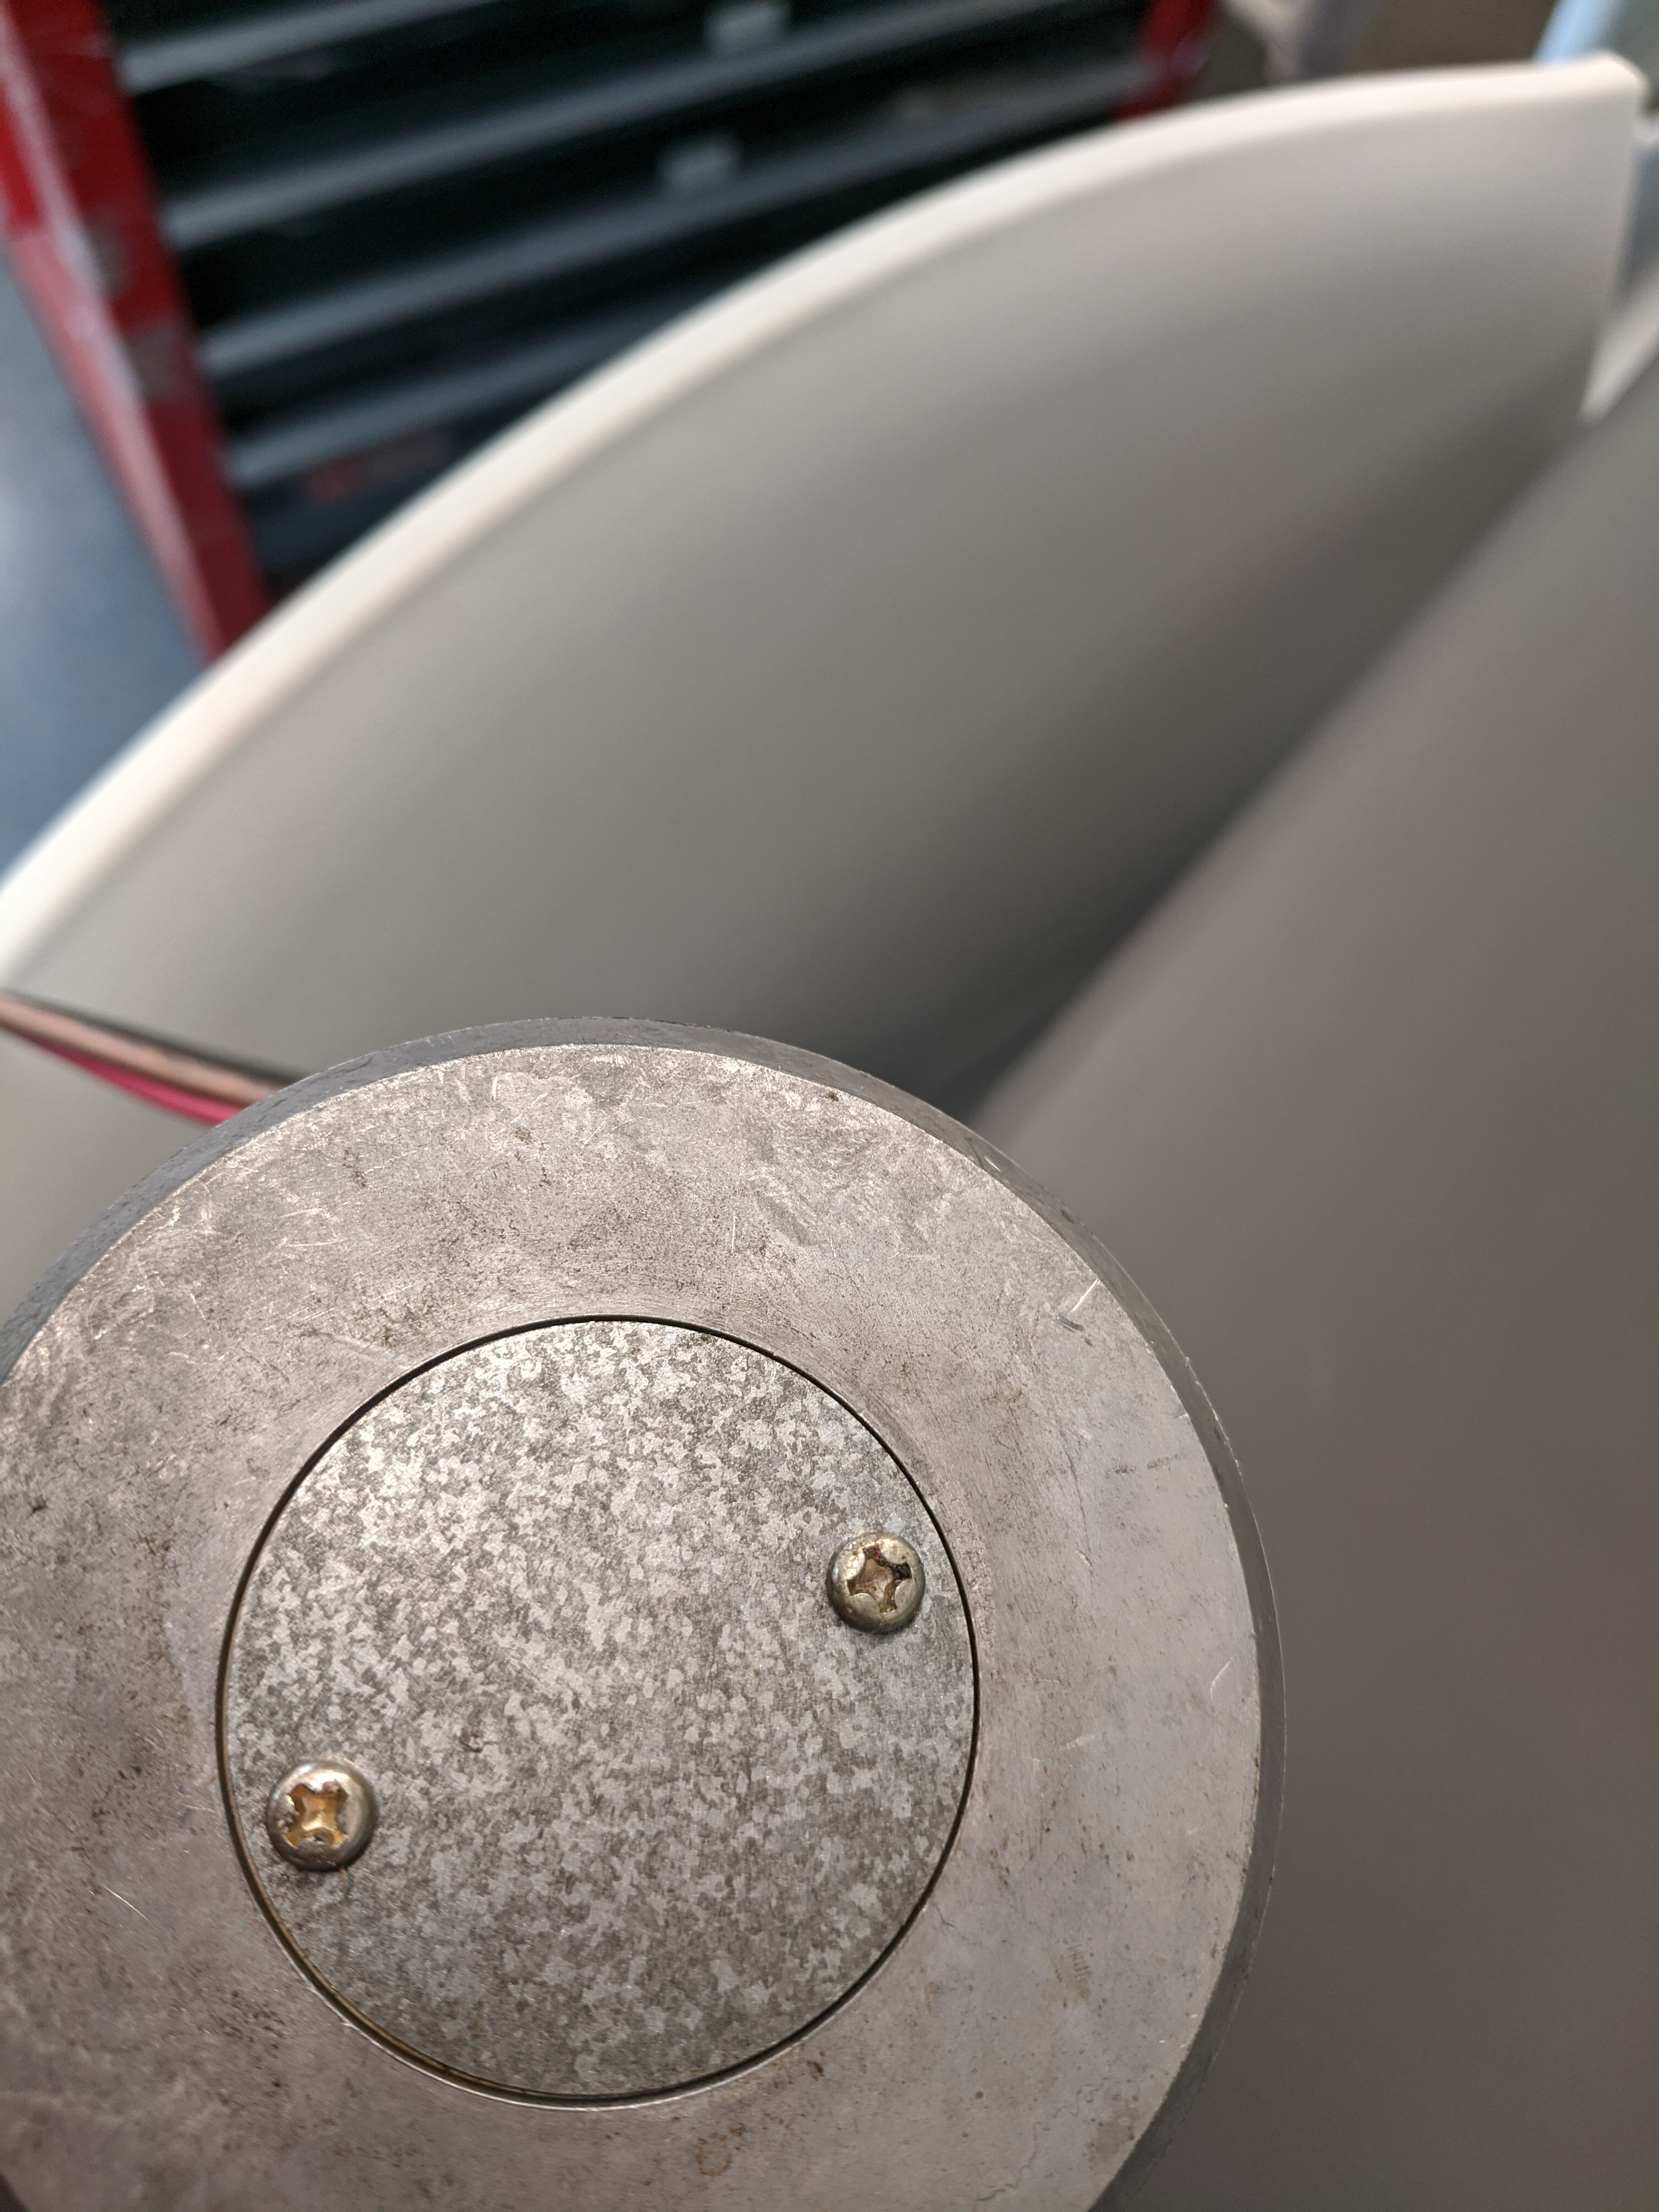cross_recessed_screw: (796, 1510, 953, 1639), (240, 1737, 385, 1874)
